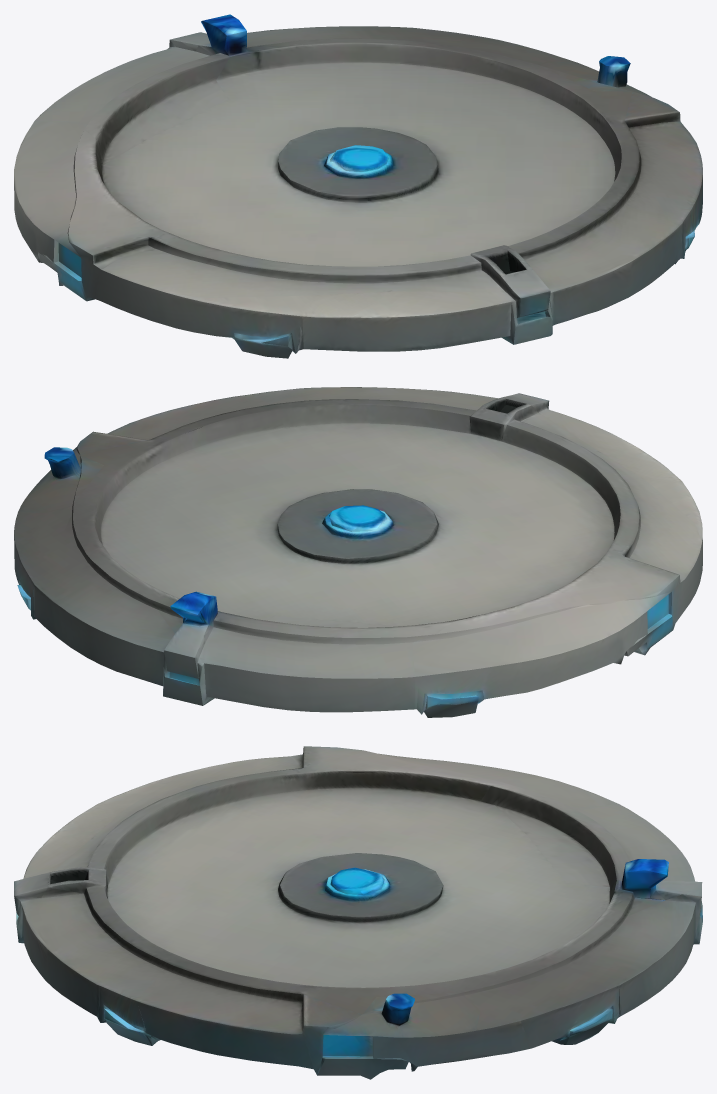
The model's file is m2StationDeck.glb.
The picture shows the model from 3 angles, top to bottom: view 1: azimuth 30°, elevation 25°; view 2: azimuth 150°, elevation 25°; view 3: azimuth 270°, elevation 25°; orthographic projection. The views are drawn at different scales.
Visible parts, largest first — view 1: model; view 2: model; view 3: model.
Boxes of the visible parts, left/top/right/bottom form: model: left=14, top=14, right=702, bottom=358; model: left=14, top=387, right=702, bottom=717; model: left=14, top=746, right=702, bottom=1079.
Bounding box in the file's own units: 1.85 × 0.2658 × 1.9.
Materials: 1 (1 with a texture image).
